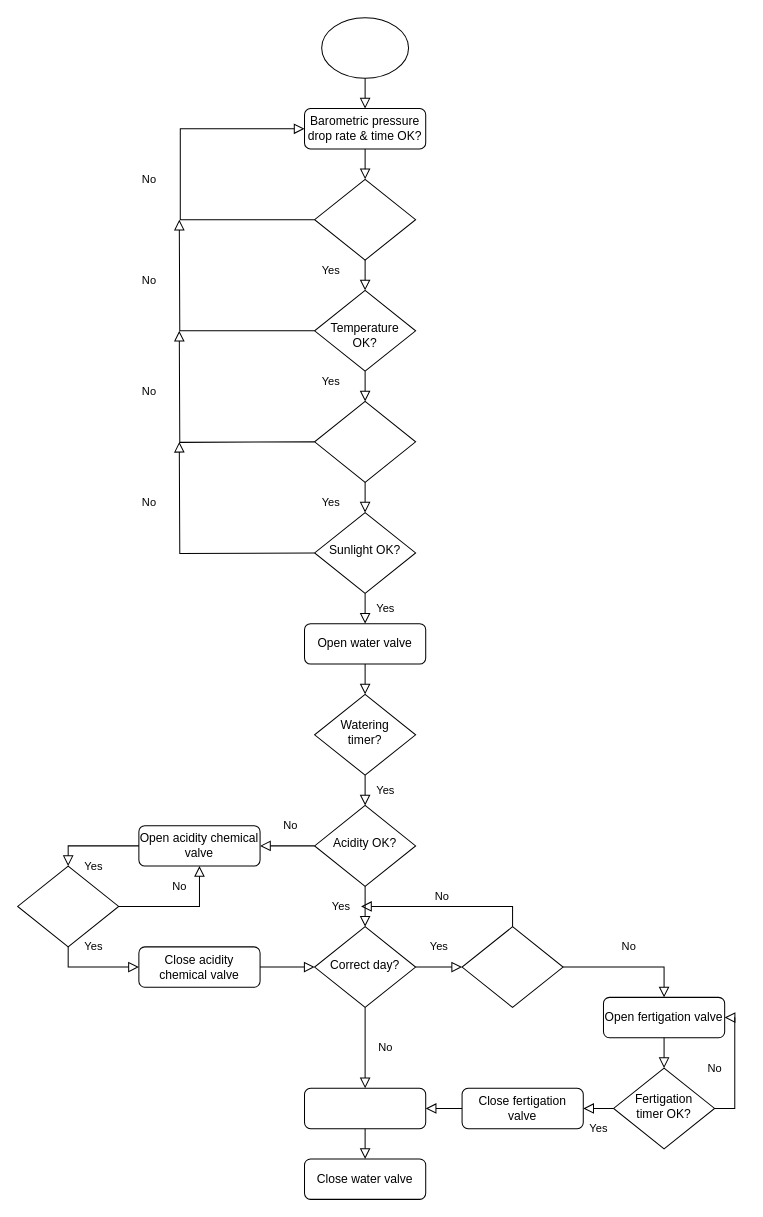
The diagram is 763 pixels wide and 1217 high, and some of its shapes have lost their labels. Here are the shapes that lost their labels. From the top down, the centre of each, then its label:
(x=365, y=47): Start
(x=365, y=219): Time of day OK?
(x=365, y=441): Soil Dryness OK?
(x=68, y=906): Acidity chemical timer?
(x=512, y=966): Fertilizer applied previously?
(x=365, y=1108): Delay
